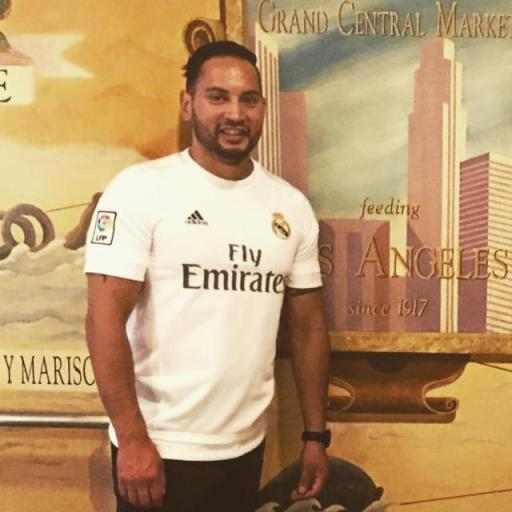Adidas: (182, 205, 210, 228)
Emirates: (178, 242, 288, 296)
